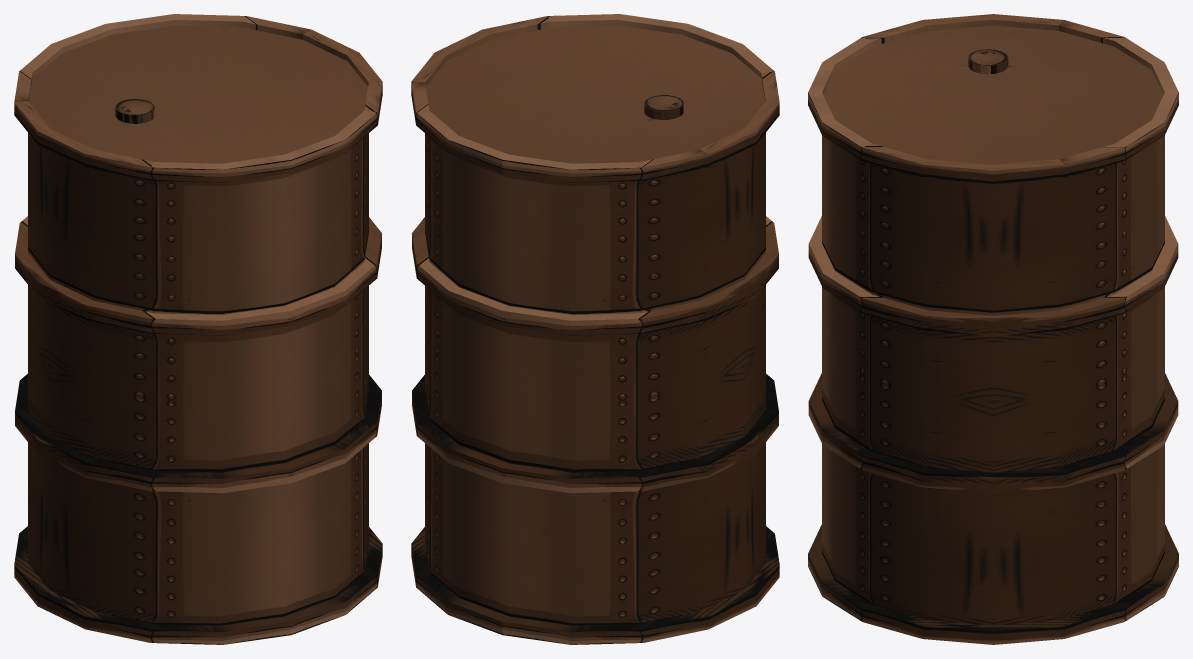
Rendered from Barrel.fbx.
3 views of the same model, side by side, from view 1: azimuth 30°, elevation 25°; view 2: azimuth 150°, elevation 25°; view 3: azimuth 270°, elevation 25° (orthographic).
Visible parts, largest first — view 1: Cylinder; view 2: Cylinder; view 3: Cylinder.
Part boxes in pixels (x1,y1,x2,y2): Cylinder: (14, 14, 382, 644); Cylinder: (411, 14, 779, 644); Cylinder: (808, 14, 1178, 644).
Bounding box in the file's own units: 141 × 141 × 201.
1 material, 1 textured.
